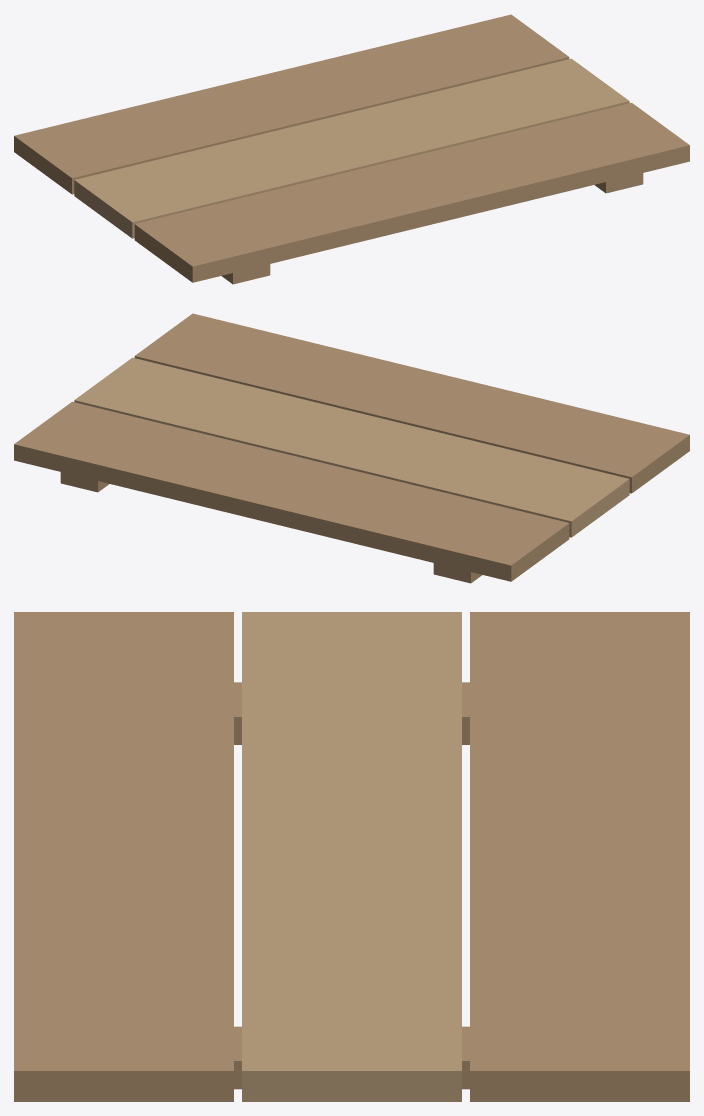
Rendered from prop-cart-bed-blank.fbx.
3 renders of one model, top to bottom at view 1: azimuth 30°, elevation 25°; view 2: azimuth 150°, elevation 25°; view 3: azimuth 270°, elevation 25°, orthographic. The views are drawn at different scales.
Visible parts, largest first — view 1: prop-cart-bed-blank; view 2: prop-cart-bed-blank; view 3: prop-cart-bed-blank.
Boxes of the visible parts, box(x1,y1,x2,y2) form: prop-cart-bed-blank: box(14, 14, 689, 284); prop-cart-bed-blank: box(14, 313, 689, 583); prop-cart-bed-blank: box(14, 612, 689, 1101).
Size of the model in its own units: 80 by 4.75 by 49.8.
